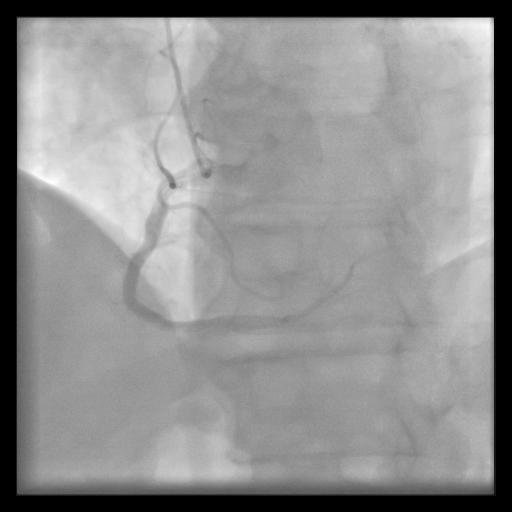Stenosis: (157, 171, 181, 202)
